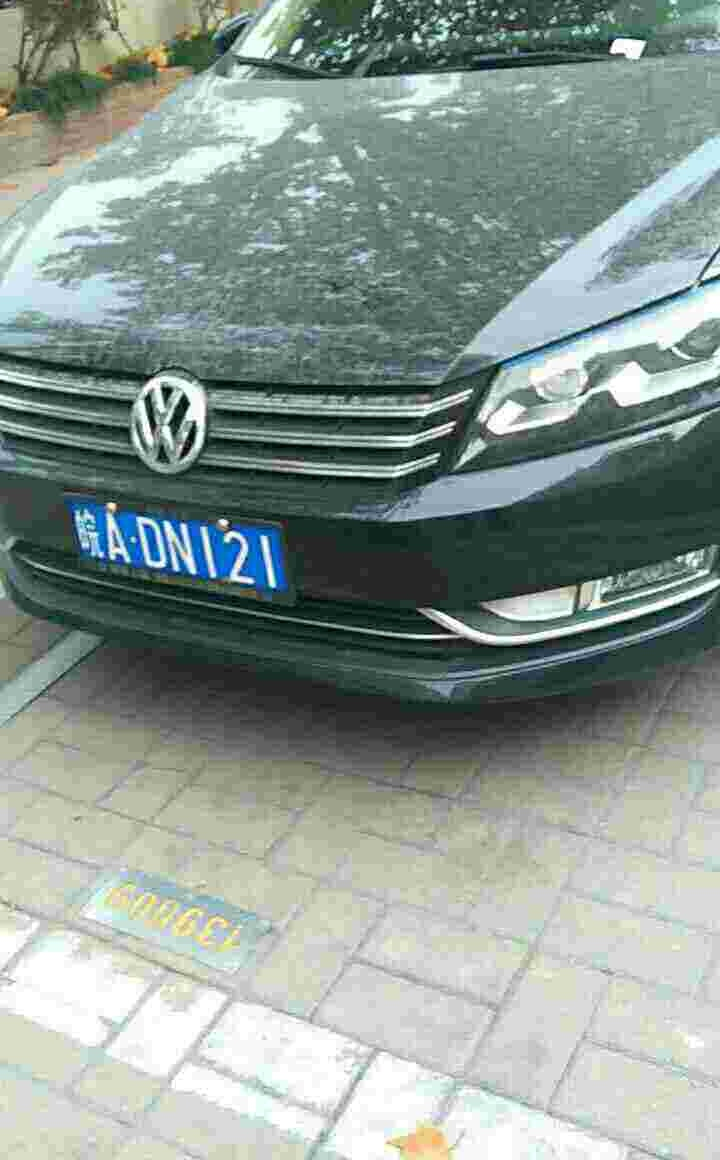license_plate: (76, 505, 285, 594)
